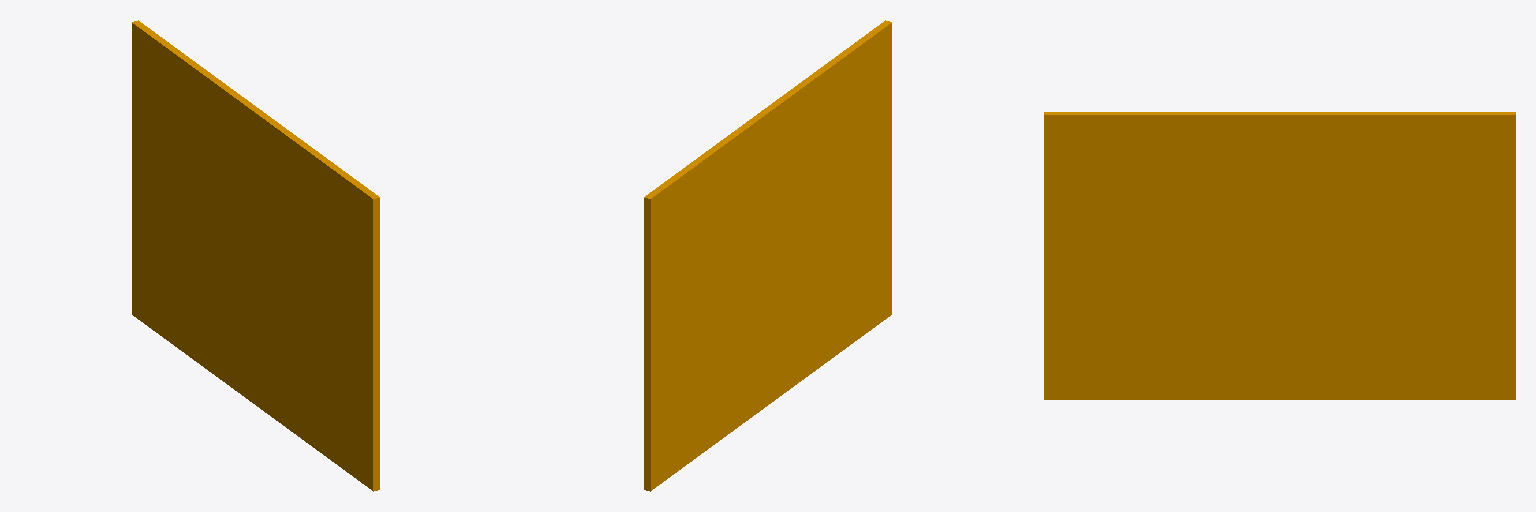
robot.urdf — box:
<?xml version="1.0"?>
<robot name="box">
  <link name="box_link">
    <visual>
      <geometry>
        <box size="0.05 3 2"/>
      </geometry>
    </visual>
    <collision>
      <geometry>
        <box size="0.05 3 2"/>
      </geometry>
    </collision>
  </link>
</robot>

--- Facts derived from the render (not from the file) ---
3 views of the same robot in one strip: view 1: azimuth 30°, elevation 25°; view 2: azimuth 150°, elevation 25°; view 3: azimuth 270°, elevation 25° (orthographic).
Robot: box — 1 links, 0 joints (none); root link box_link; default pose: all joints at 0.
Links seen in each view (by area): view 1: box_link; view 2: box_link; view 3: box_link.
Boxes of the visible links, x1=… form: box_link: x1=132, y1=20, x2=379, y2=491; box_link: x1=644, y1=20, x2=891, y2=491; box_link: x1=1044, y1=112, x2=1515, y2=399.
Bounding box of the posed robot: 0.05 × 3 × 2 m (x, y, z).
Geometry: primitives only (box / cylinder / sphere), no mesh files.
